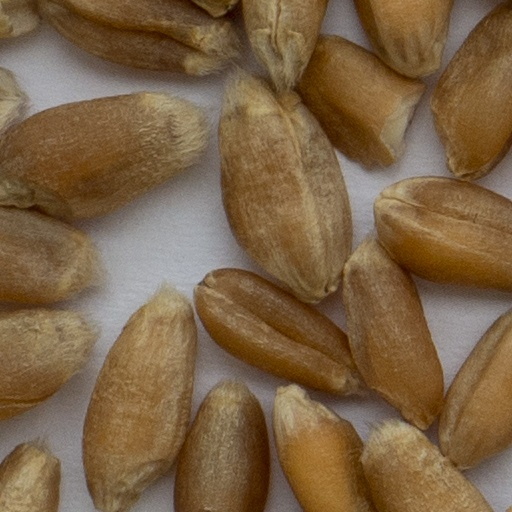Peel-poly: (0, 0, 36, 37)
Wheat-grain-damaged-poly: (297, 32, 424, 171)
